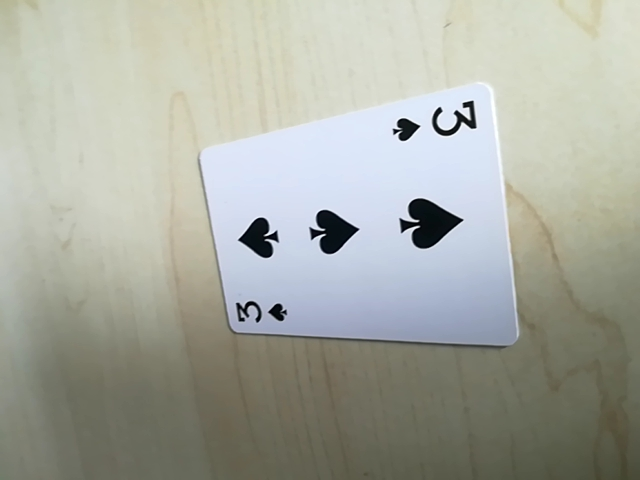ht 3: (390, 96, 484, 148), (227, 295, 291, 332)
